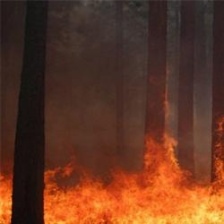fire: (1, 134, 224, 223)
